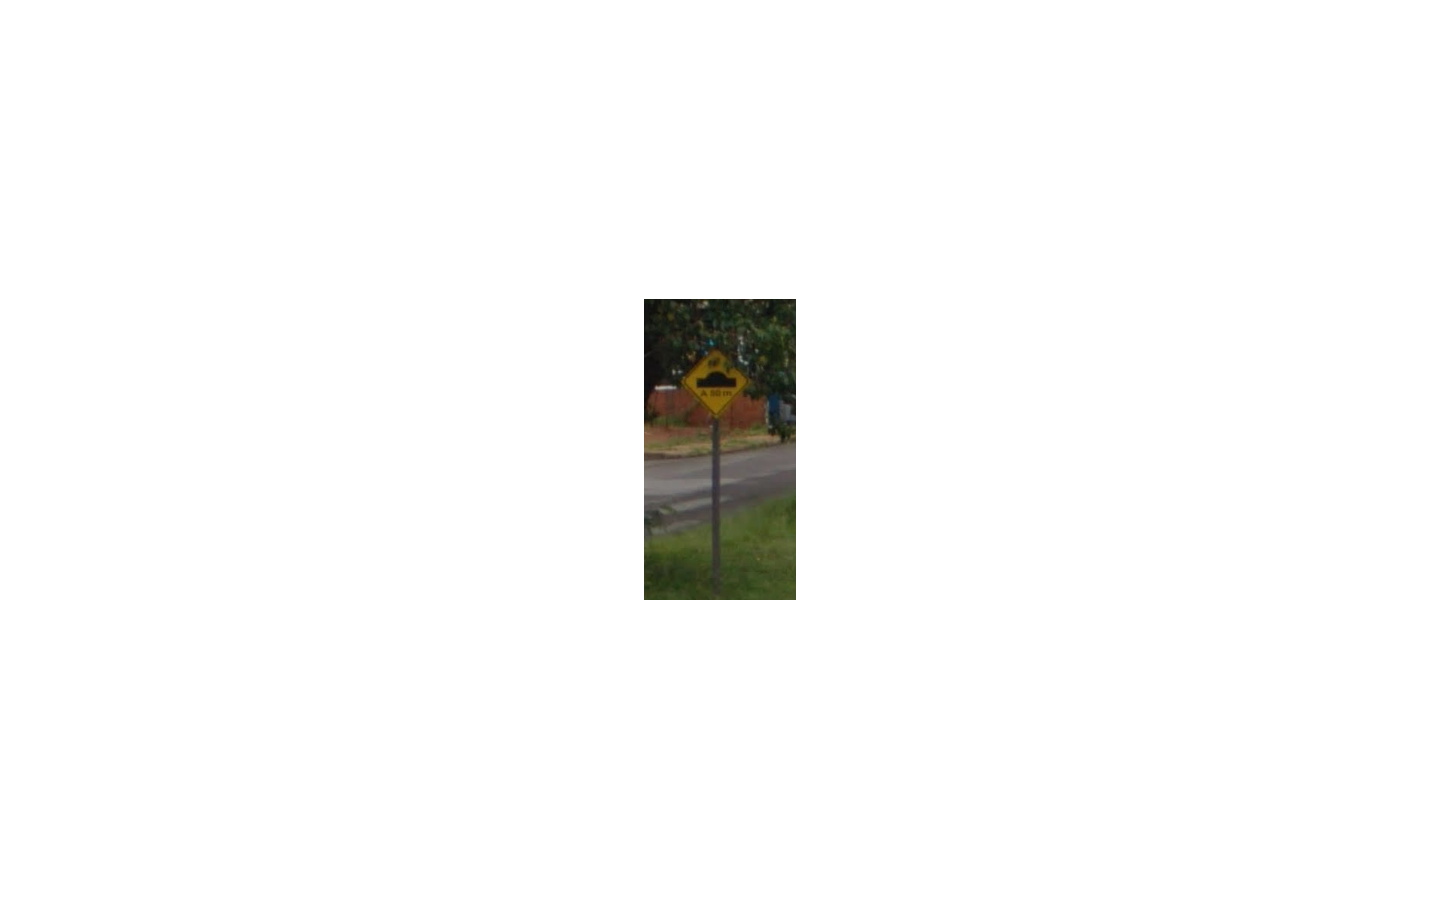t50m: (680, 347, 753, 419)
